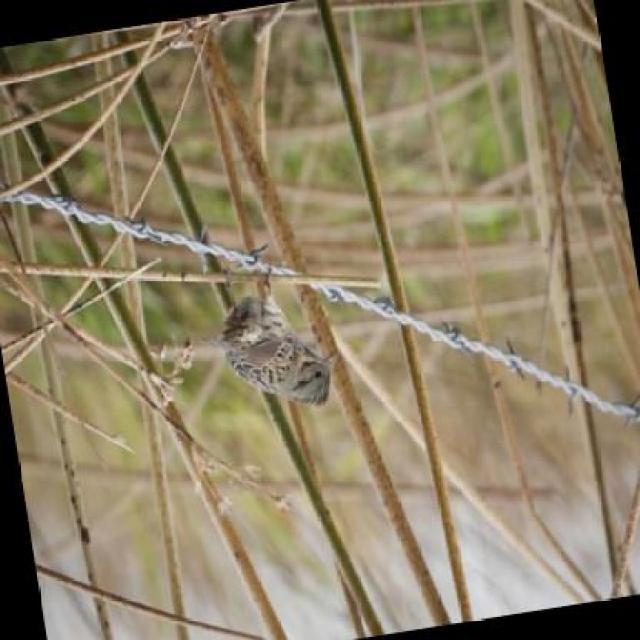Bird: (218, 255, 349, 423)
